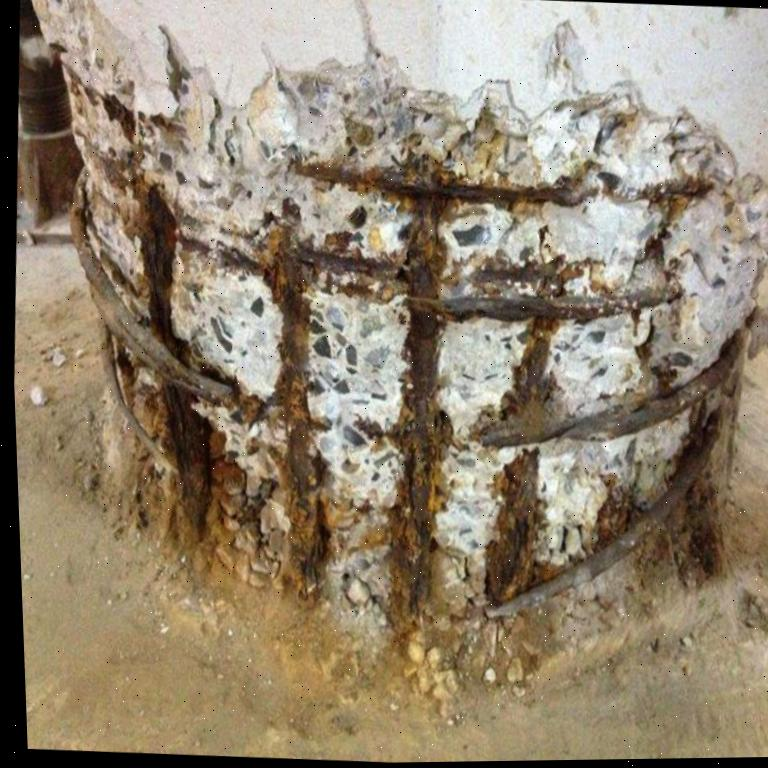exposed_rebar: (302, 166, 581, 619), (405, 288, 736, 446), (263, 223, 389, 592), (70, 192, 234, 403), (485, 449, 539, 604), (161, 380, 210, 534), (140, 186, 181, 358)
spalling: (36, 0, 768, 626)
